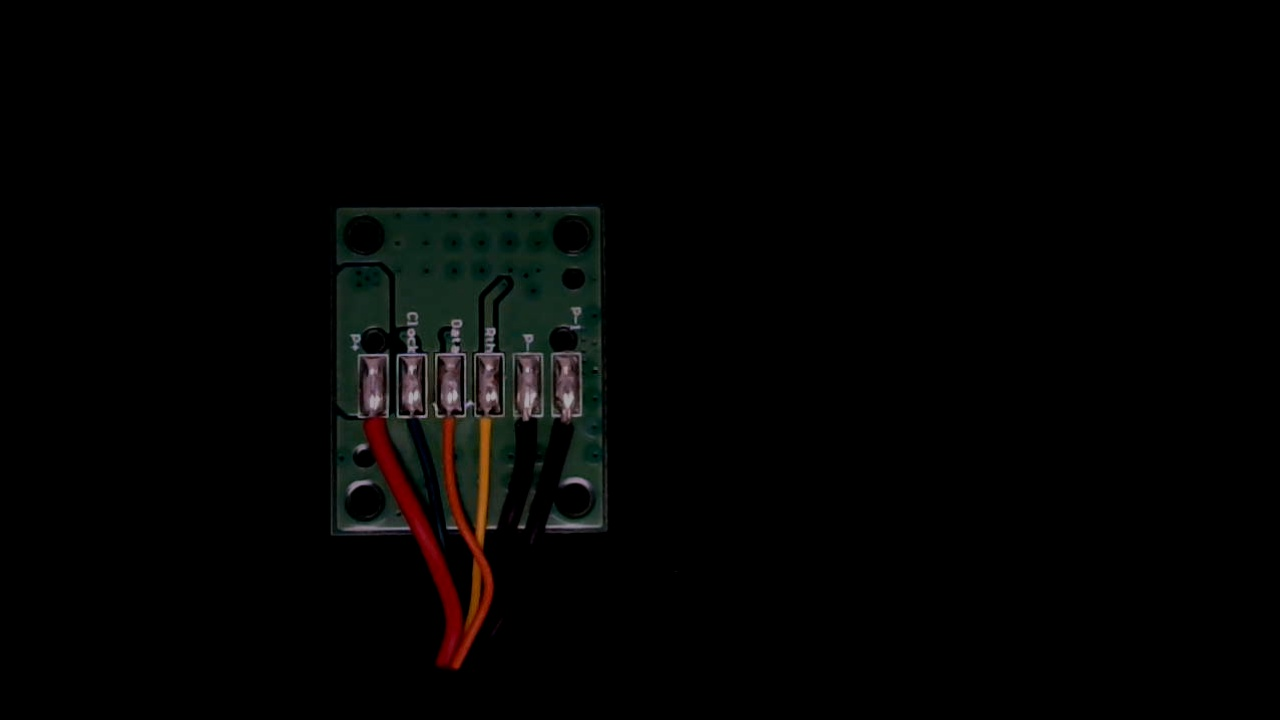Black: (510, 395, 545, 468)
Black1: (549, 396, 582, 463)
Green: (396, 390, 430, 460)
Orange: (435, 392, 467, 464)
Red: (357, 394, 391, 464)
Yellow: (475, 394, 509, 468)
